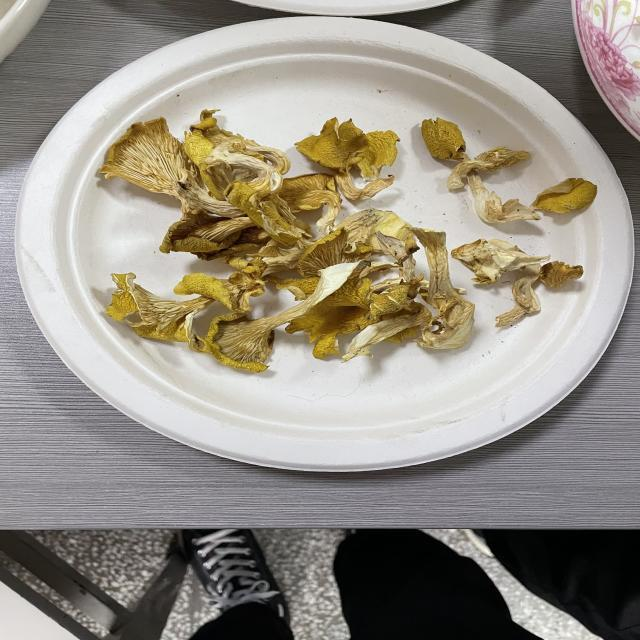Pleurotus citrinopileatus: (149, 124, 497, 408), (155, 33, 299, 164), (318, 42, 438, 142)
